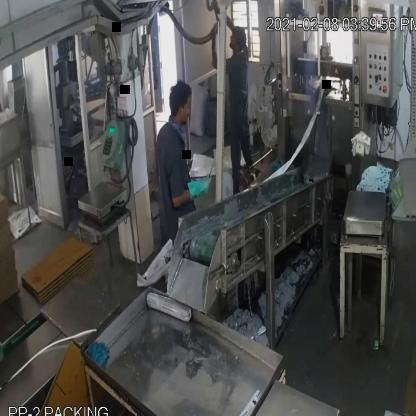glove: (181, 172, 215, 214)
